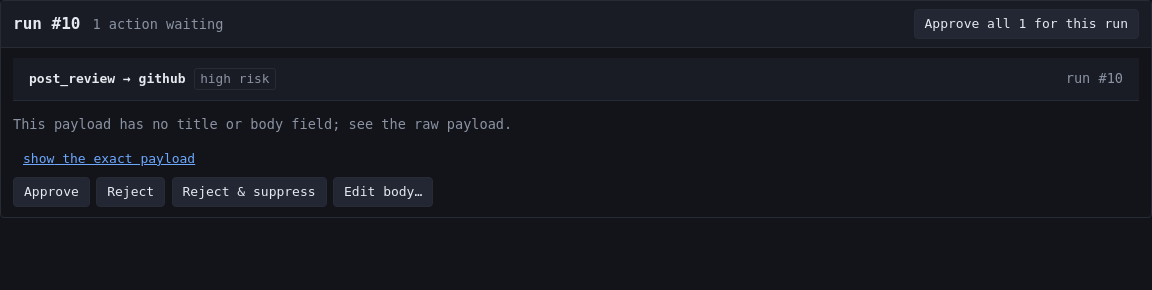
approvals › still shows a payload that will not parse
Expected: the text "no title or body field" is shown, [13, 116, 512, 132]
Click the button "show the exact payload" at (104, 159), box [13, 149, 195, 169]
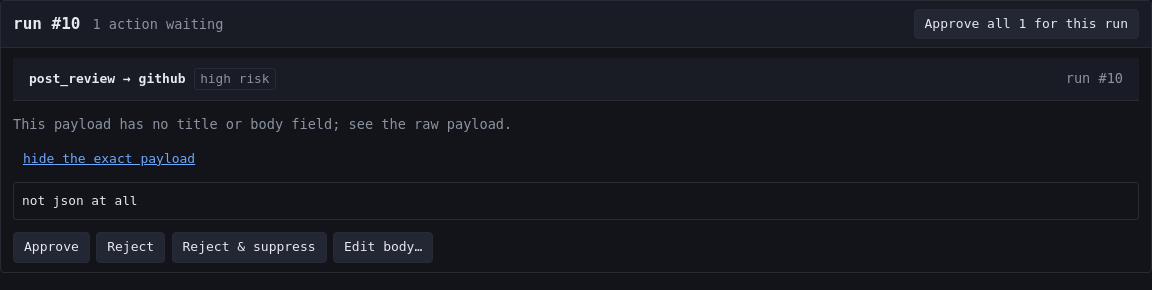
Result: the text "not json at all" is shown at [13, 182, 1139, 220]
